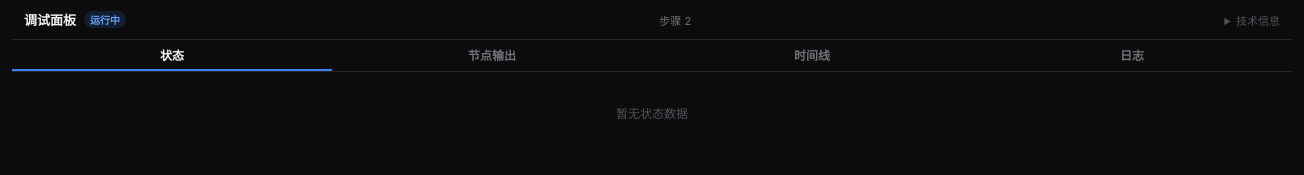
WorkflowDebugPanel › shows node-level outputs in a dedicated tab
This screenshot has width=1304, height=175.
Step 1. Click the button "节点输出" → (492, 56), box [332, 40, 652, 71]
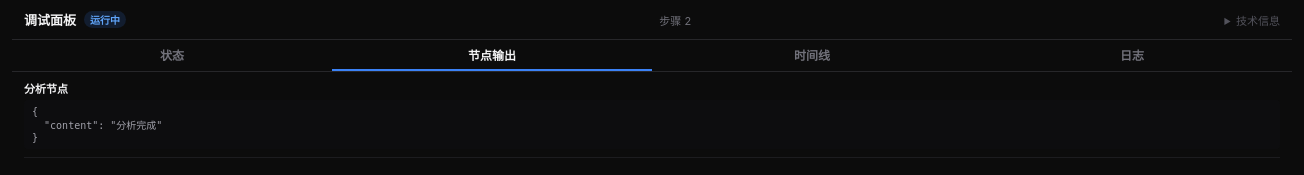
Check: the text "分析节点" is shown, box [24, 82, 68, 96]
Check: the text "{ \"content\": \"分析完成\" }" is shown, box [24, 100, 1280, 149]
